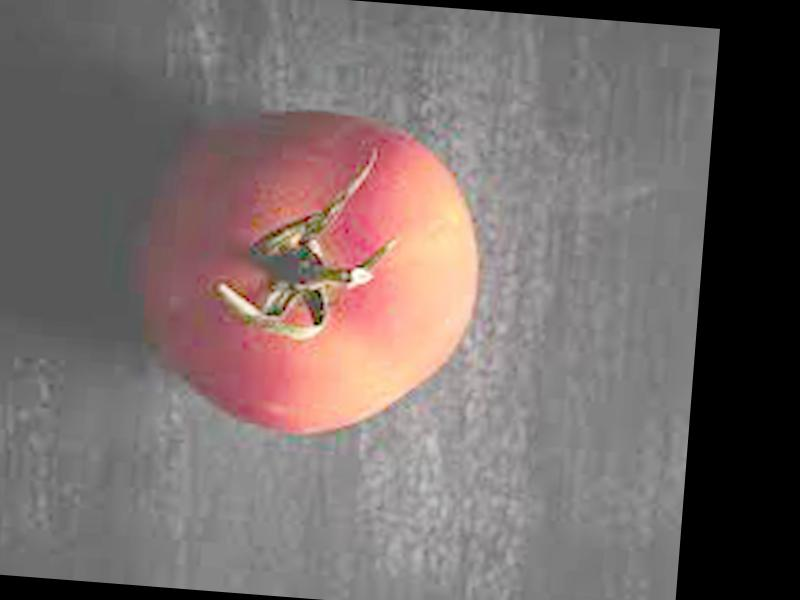Tomato: (132, 103, 491, 446)
